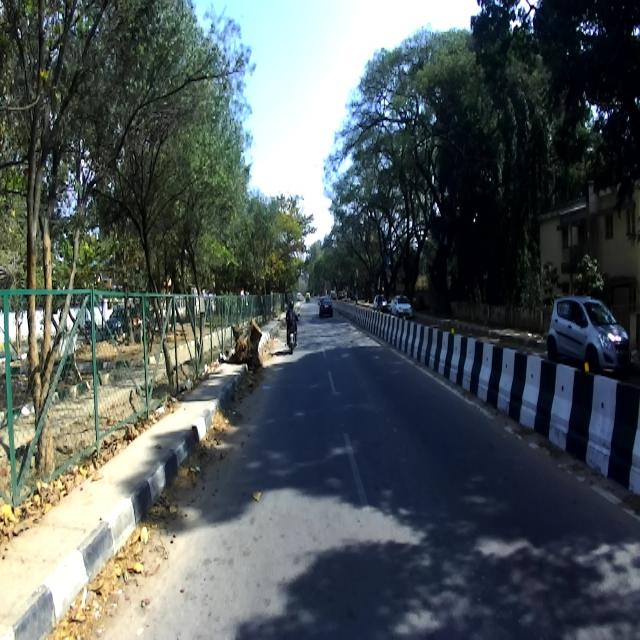car: (544, 293, 628, 376), (317, 296, 334, 318)
